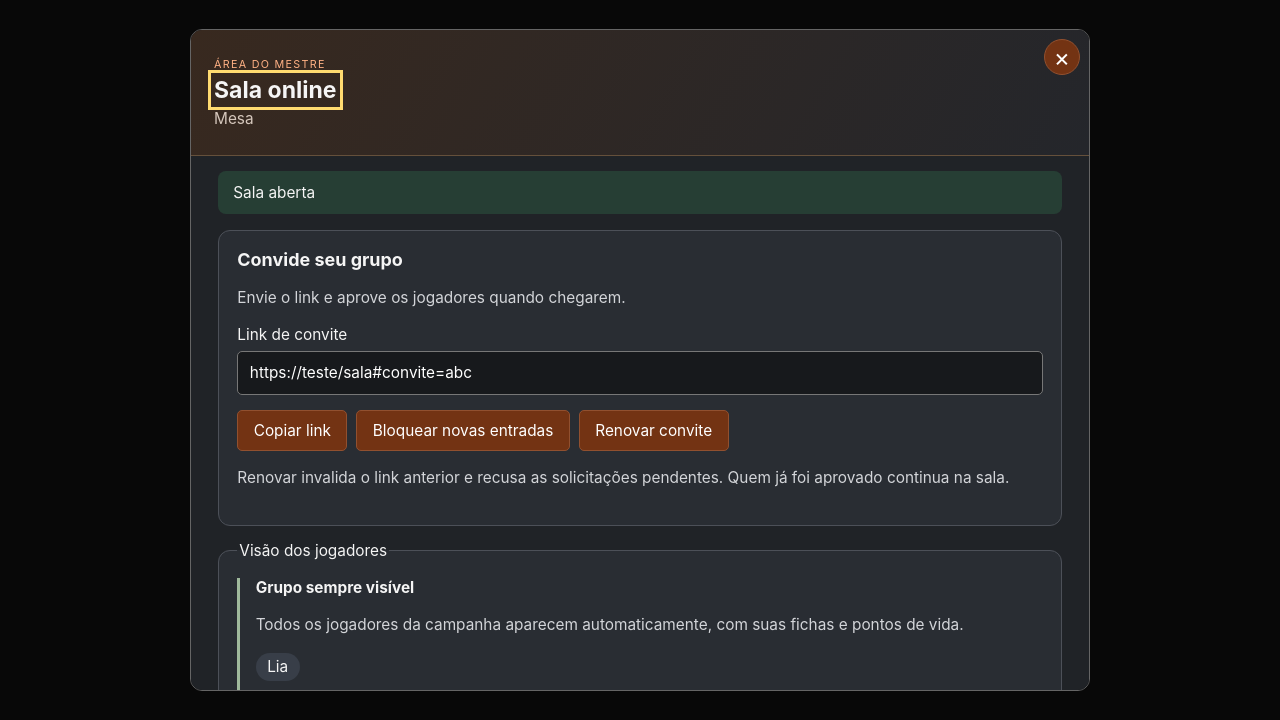
Test: convite fica apenas na modal; copia apenas o convite sem e-mail
This screenshot has width=1280, height=720.
Expected: the field labelled "Link de convite" holds "https://teste/sala#convite=abc", left=237, top=351, right=1043, bottom=395
Click the button "Copiar link" at (292, 430), box left=237, top=410, right=347, bottom=451
(page scrolled)
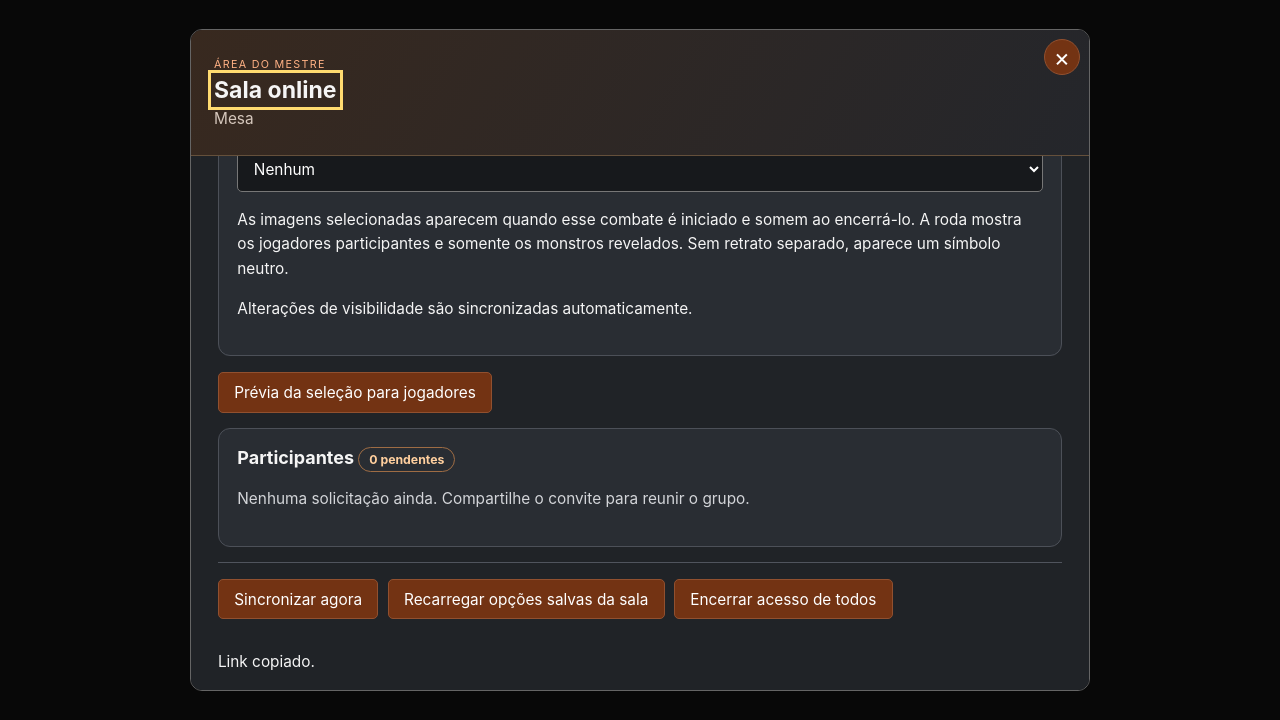
Now the text "Link copiado." is shown, box left=218, top=652, right=315, bottom=671
